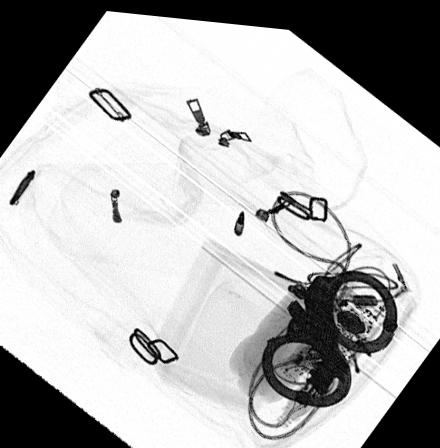Bullet: (232, 204, 244, 230)
Gun: (284, 289, 352, 392)
HandCuffs: (256, 260, 398, 401)
